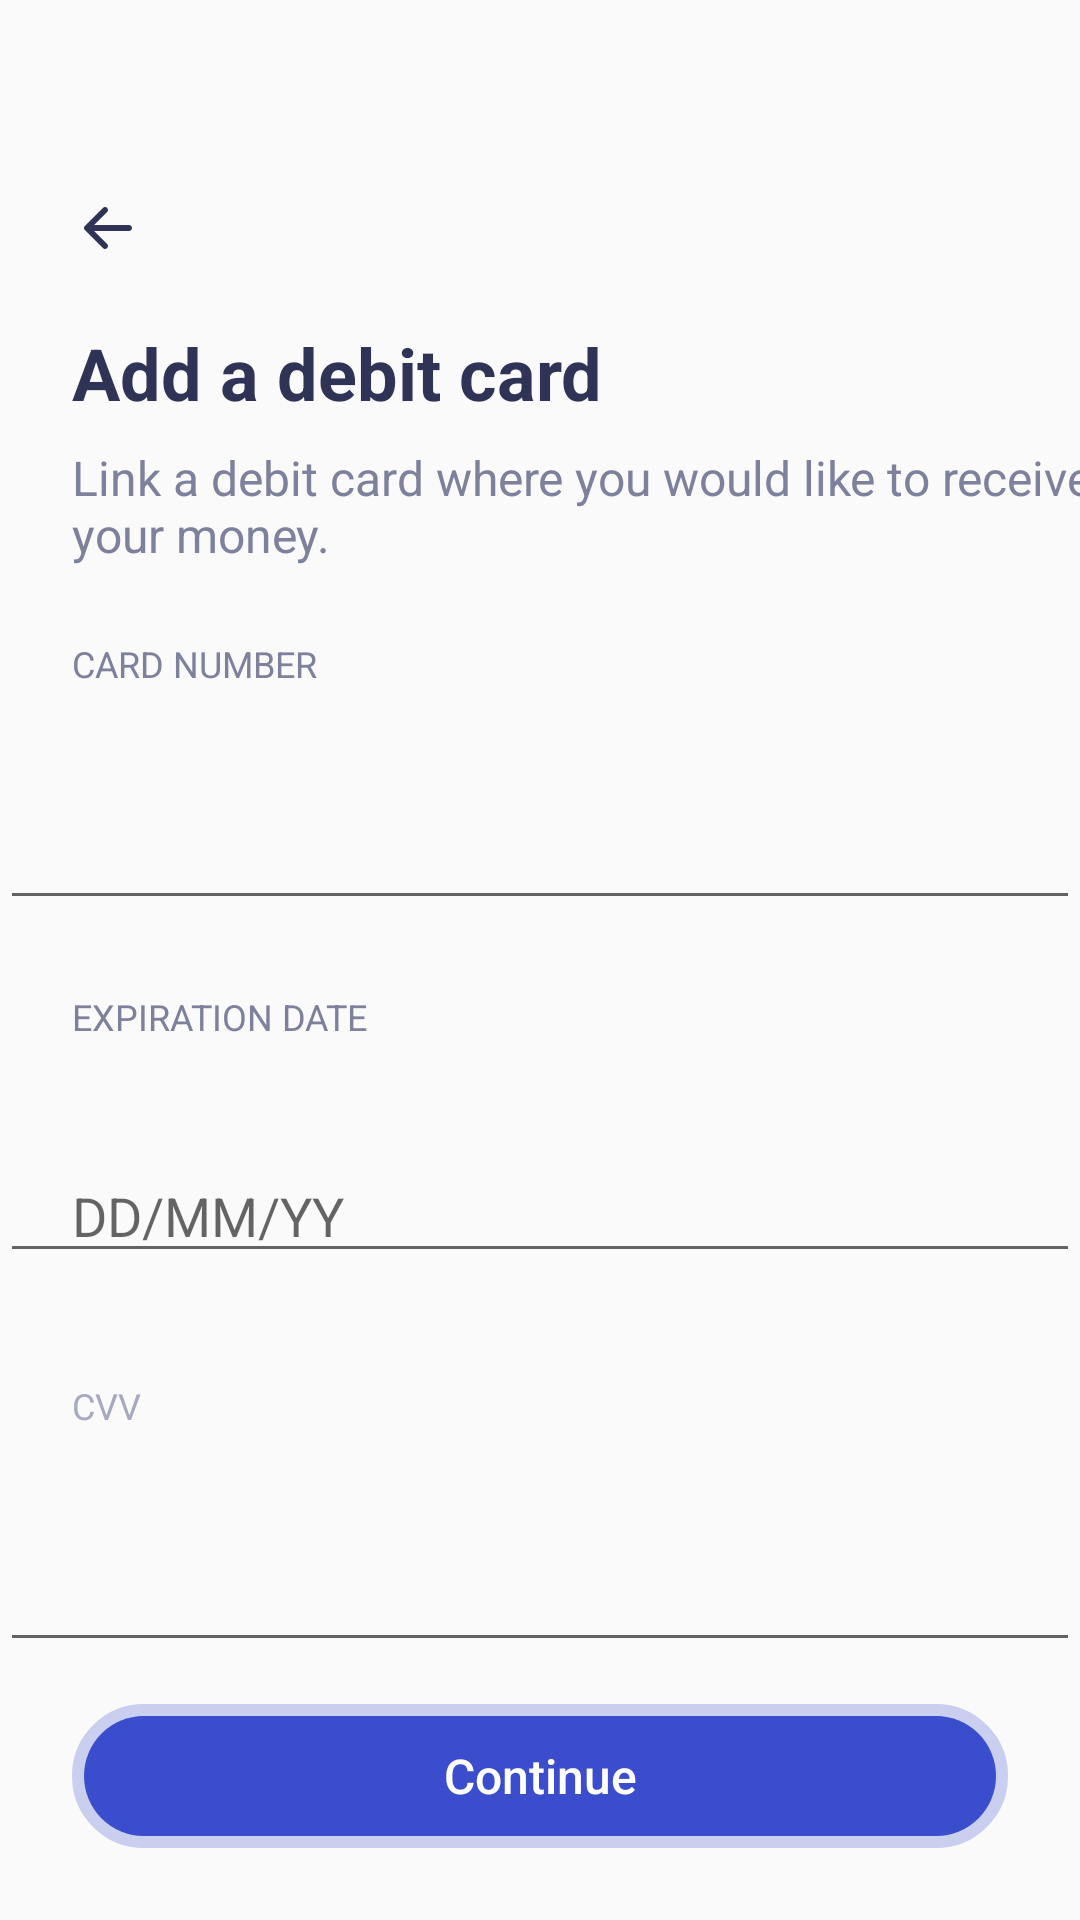

Icons on this 1080×1920 Android screen, each with its box as [x1,y1,x2,y2]:
back: [84,207,132,249]
